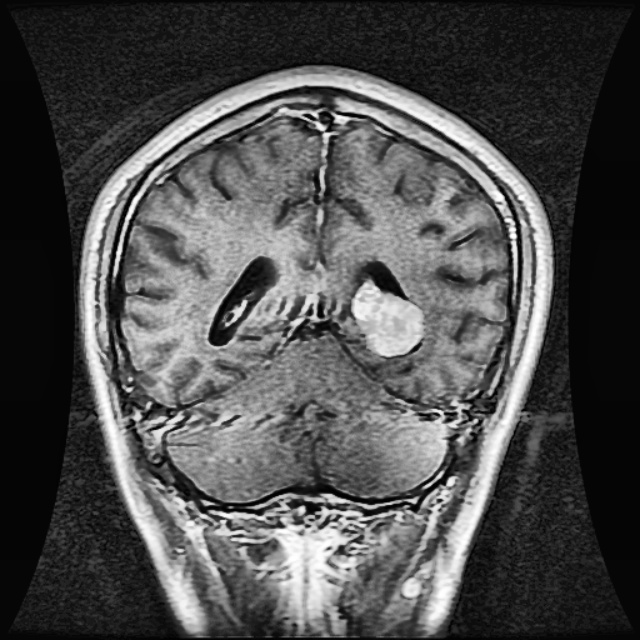Glioma: (353, 283, 423, 354)
